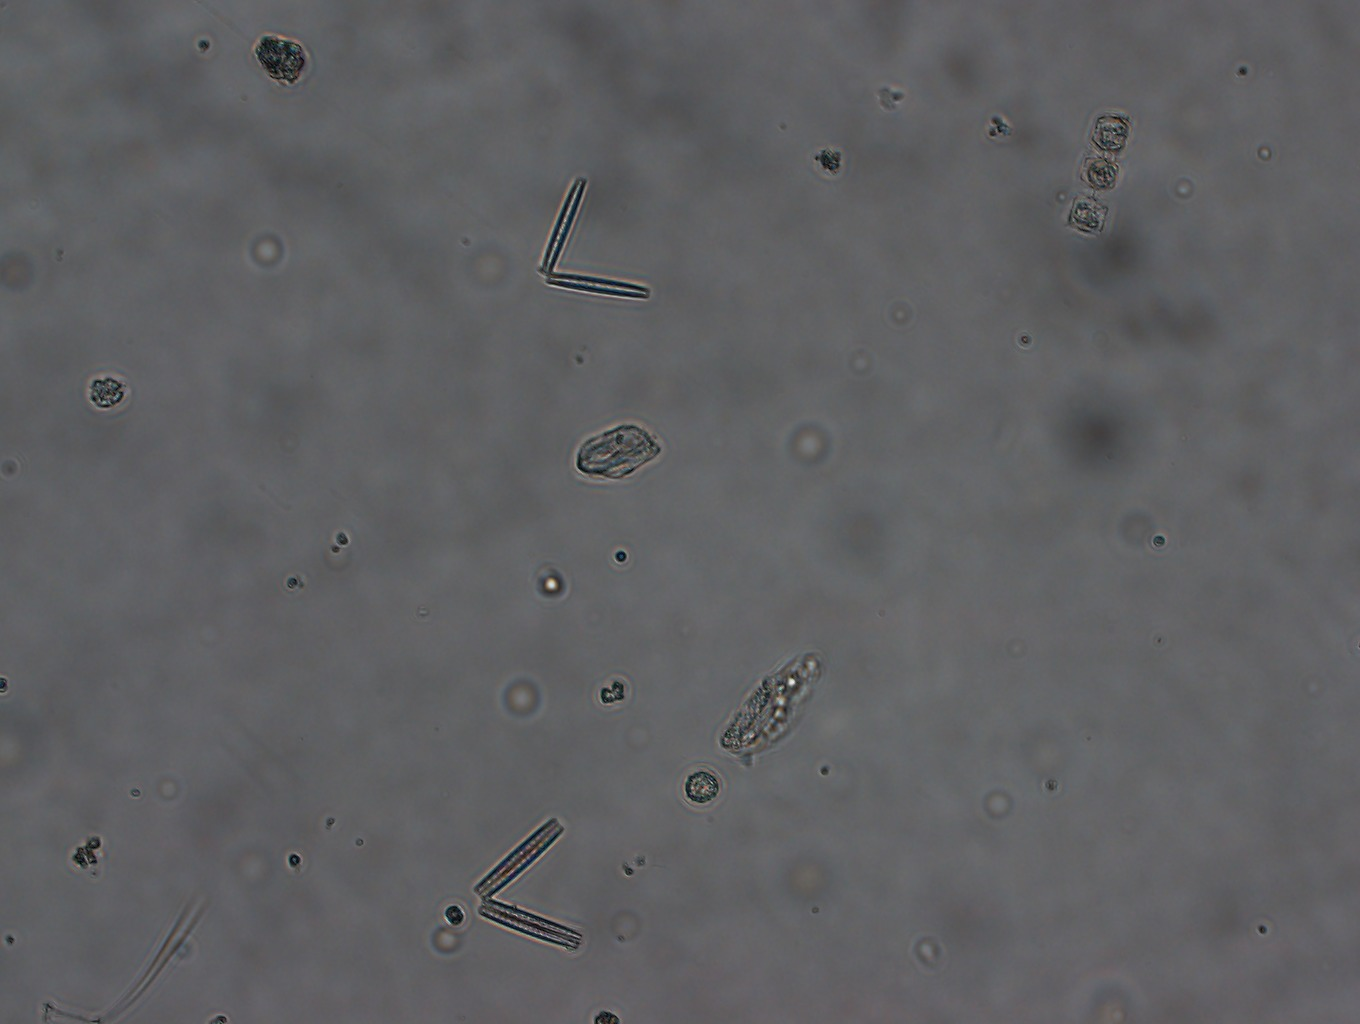skeletonema: (1046, 93, 1136, 240)
thalassionema nitzschioides: (468, 805, 591, 955), (529, 165, 653, 314)
